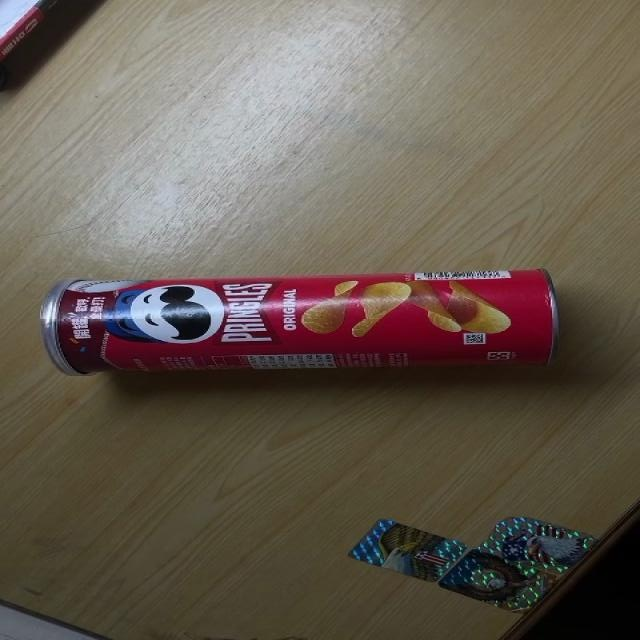Pringles: (37, 265, 558, 374)
